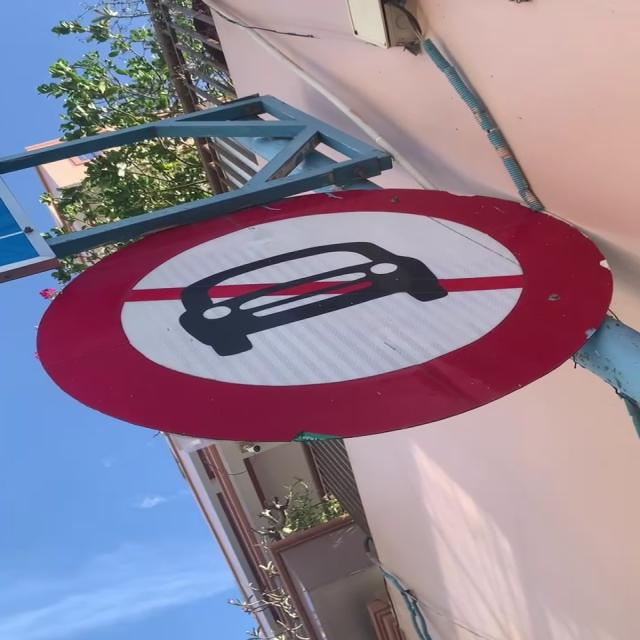Cam_O_To: (40, 188, 618, 442)
